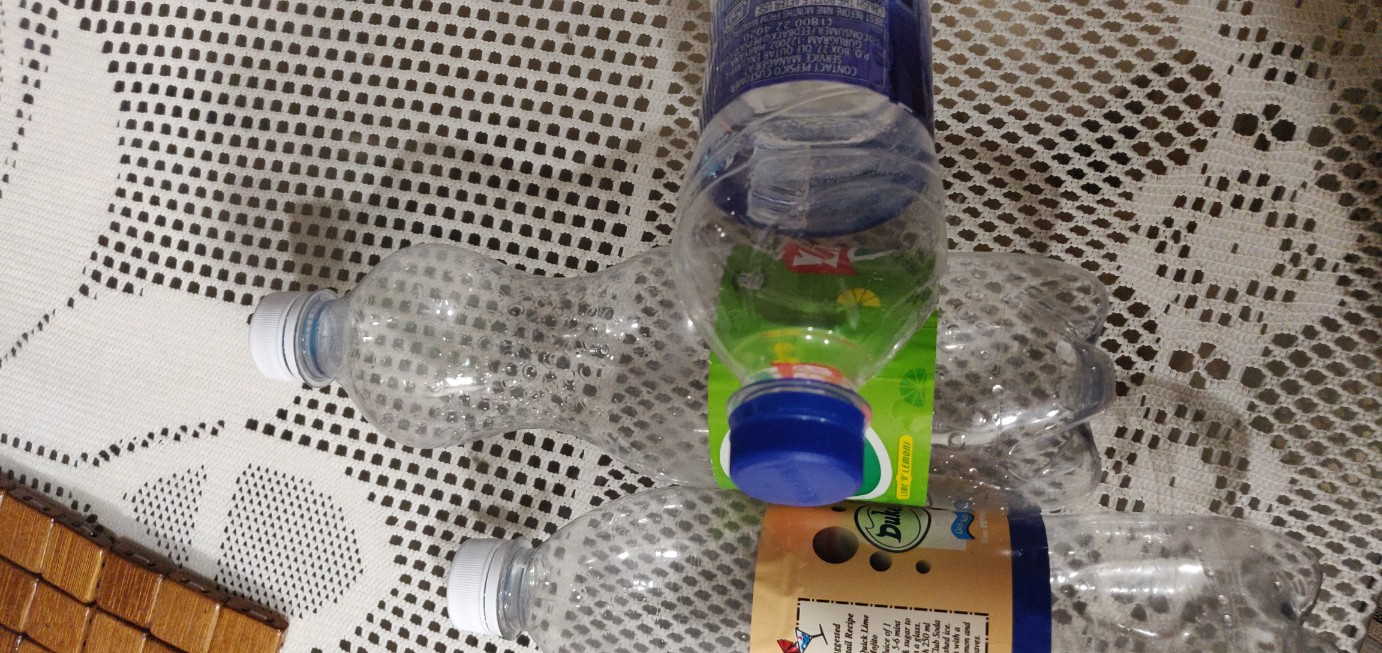Electronics: (226, 222, 1170, 547), (658, 5, 970, 551), (422, 470, 1332, 653)
